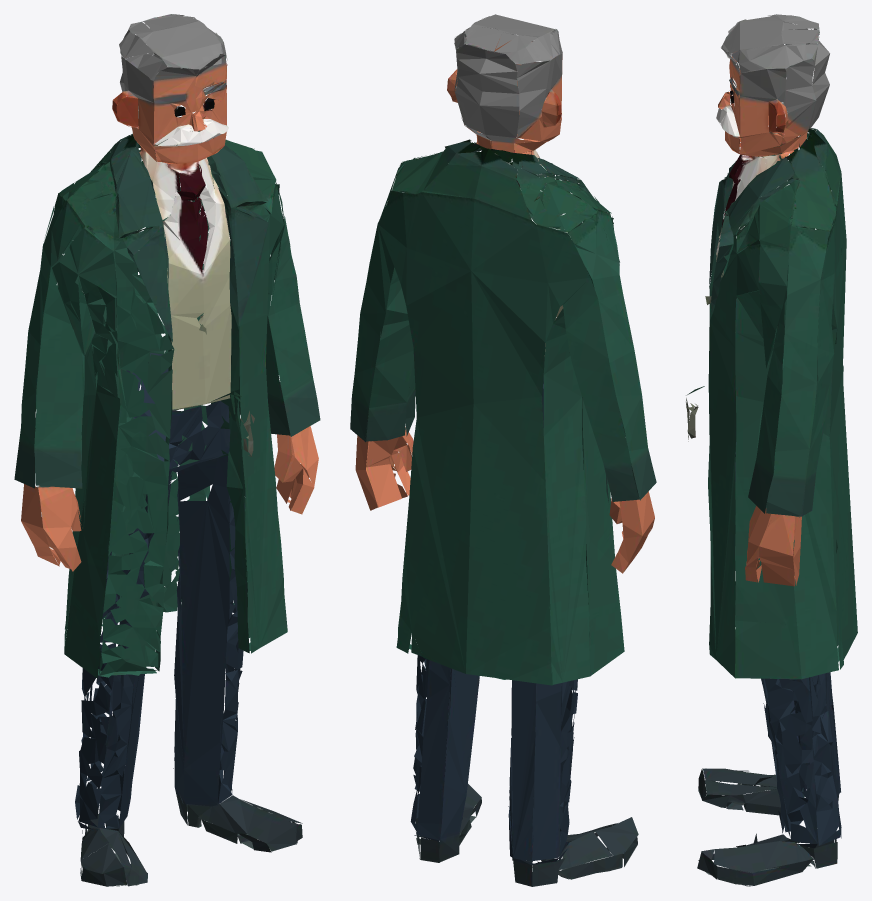
The model's file is habitant.glb.
3 renders of one model, left to right at view 1: azimuth 30°, elevation 25°; view 2: azimuth 150°, elevation 25°; view 3: azimuth 270°, elevation 25°, orthographic.
Parts seen in each view (by area): view 1: world; view 2: world; view 3: world.
Part boxes in pixels (box(x1,y1,x2,y2)): world: box(14, 14, 320, 886); world: box(350, 14, 656, 886); world: box(686, 14, 857, 886).
Bounding box in the file's own units: 0.3711 × 1 × 0.1943.
1 material, 1 textured.
